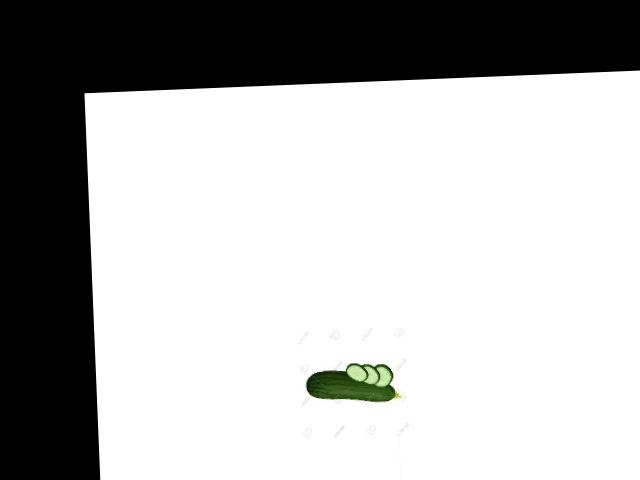cucumber: (304, 367, 400, 404)
